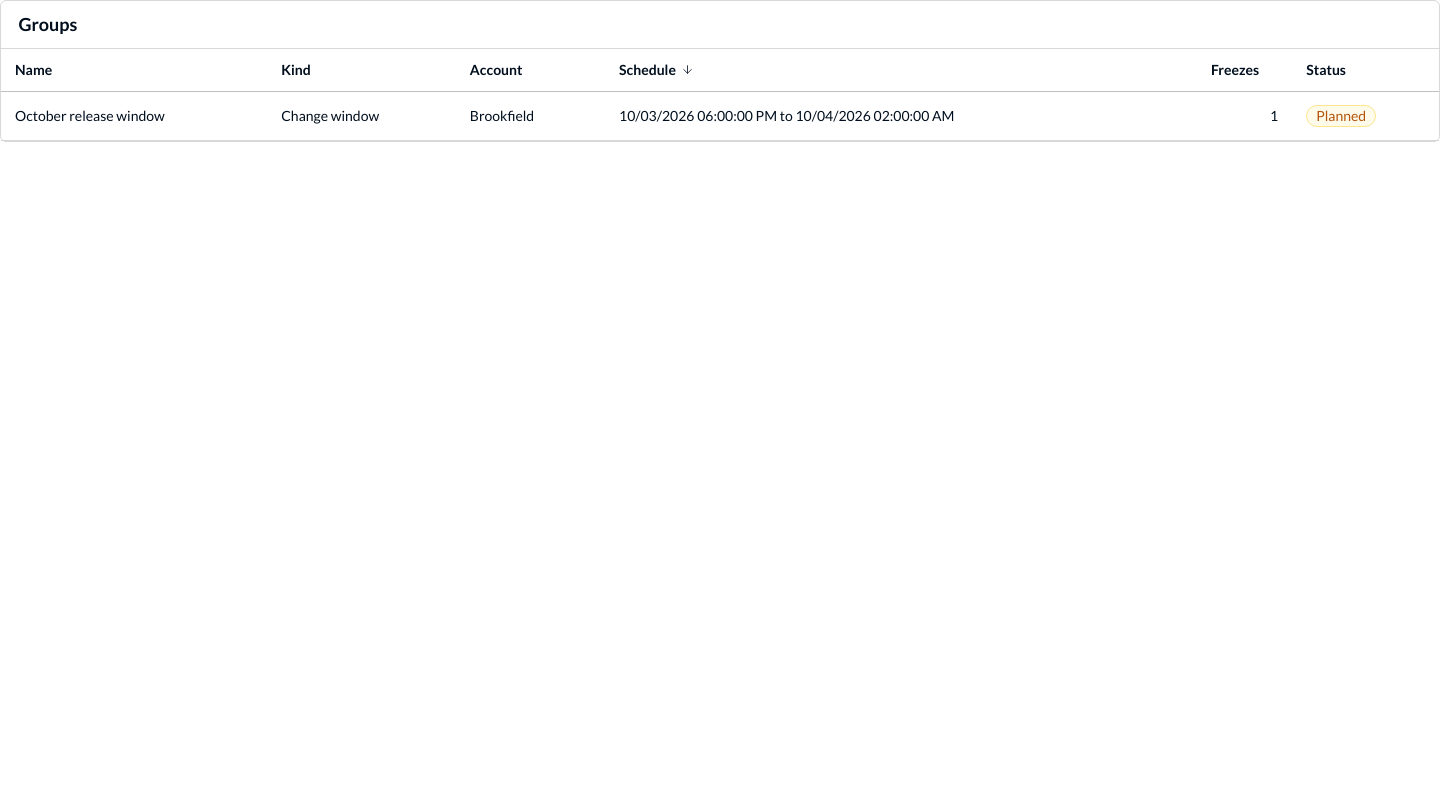
Test: TicketGroupsCatalog › words the API's own refusal of a schedule
This screenshot has width=1440, height=810.
What coordinates should you click on to do the following:
click the text "October release window"
I would click on:
 (90, 115)
Its box is top-left (15, 107), bottom-right (165, 124).
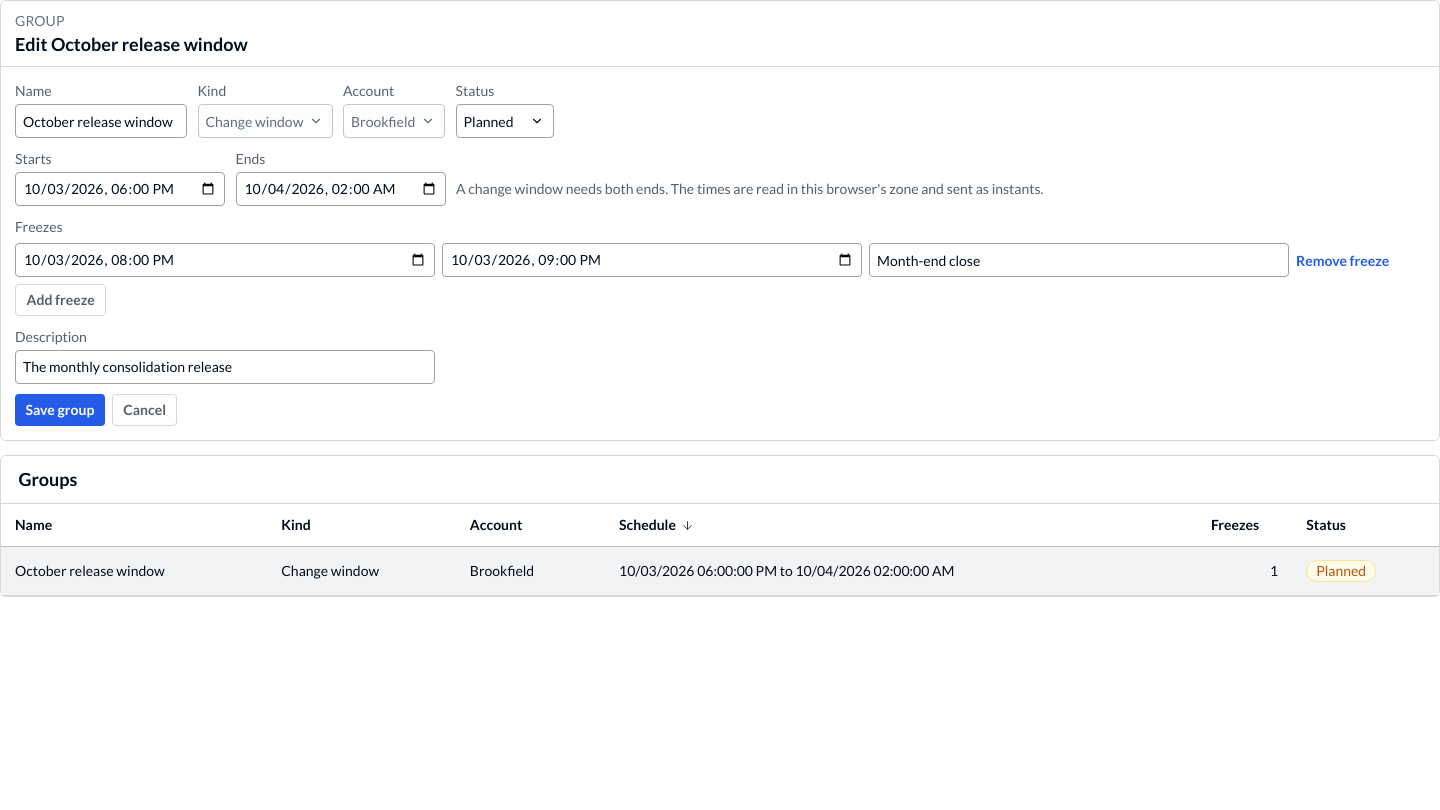
expect the dropdown labelled "Kind" is disabled: met, box top-left (198, 104), bottom-right (332, 138)
expect the dropdown labelled "Account" is disabled: met, box top-left (343, 104), bottom-right (445, 138)
What coordinates should you click on to do the following:
click the button "Save group"
I would click on:
 (60, 410)
Its box is top-left (15, 394), bottom-right (105, 426).
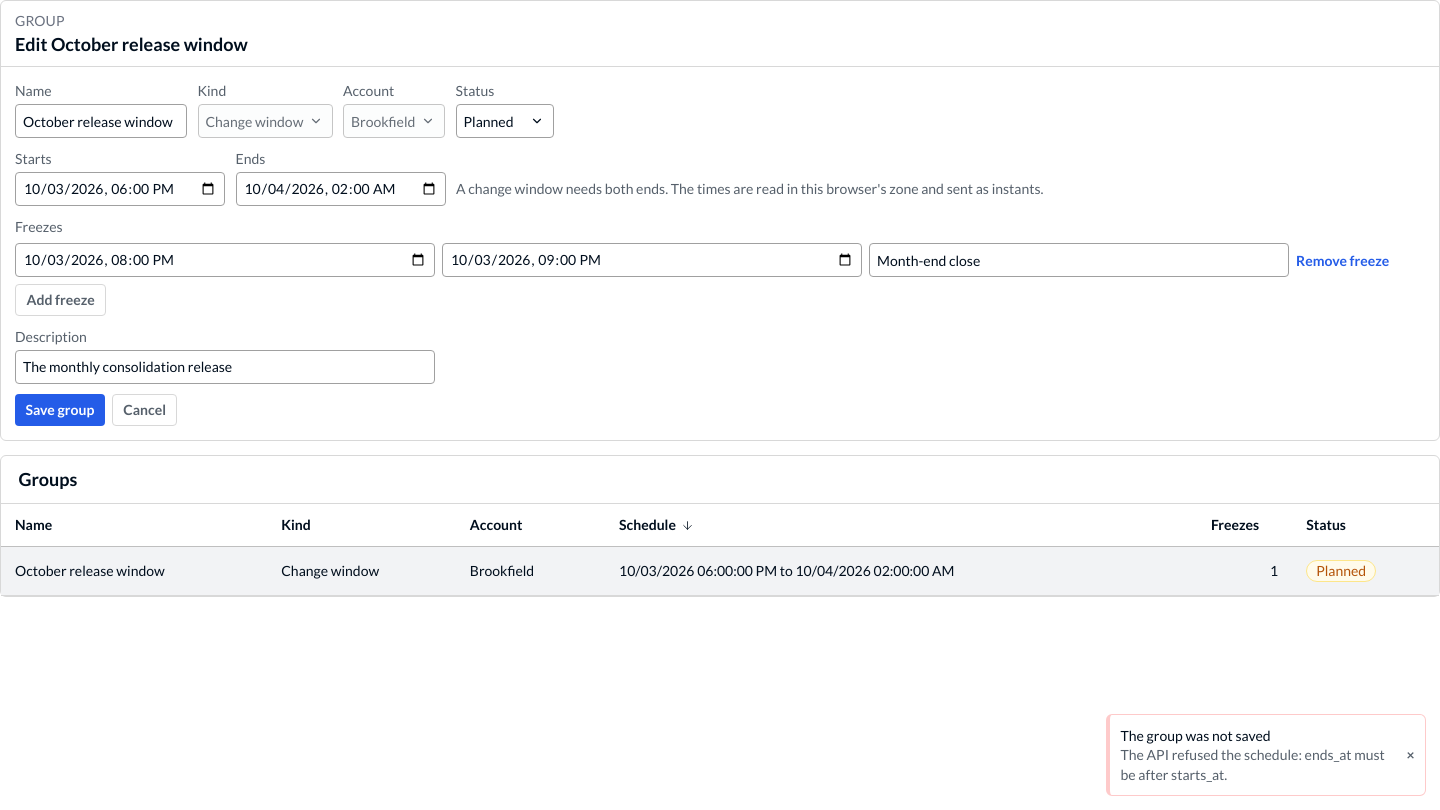
expect the text "ends_at must be after starts_at" is shown: met, box top-left (1120, 746), bottom-right (1385, 783)
